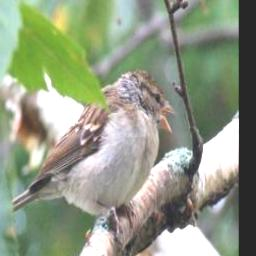Sparrow: (11, 67, 180, 243)
